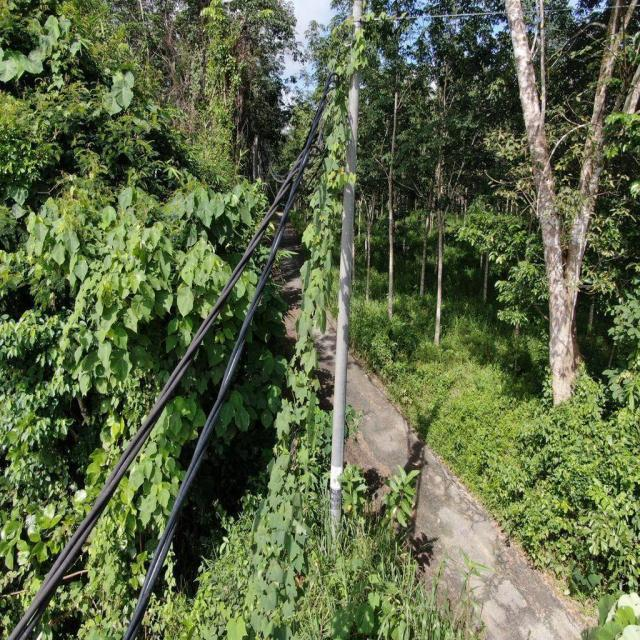critical vegetation: (236, 4, 390, 622)
